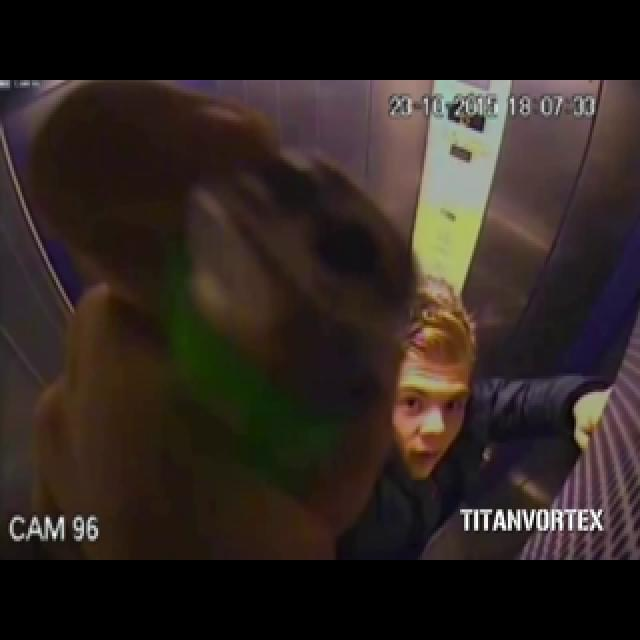arson: (34, 74, 600, 522)
